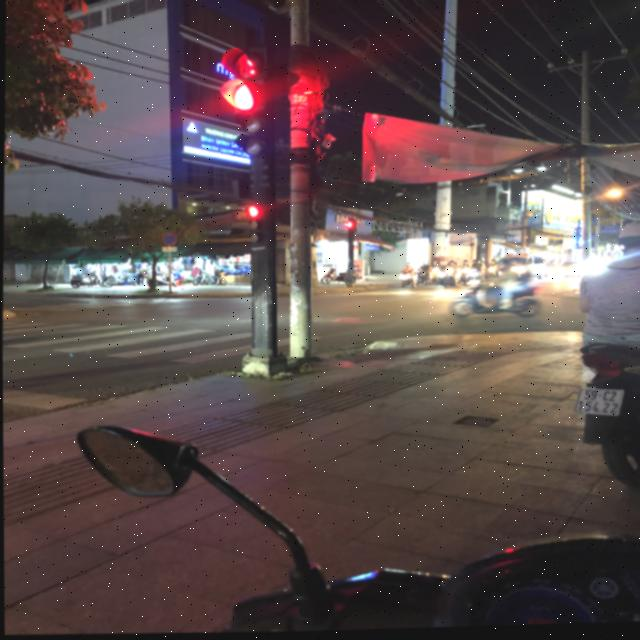Red: (215, 77, 272, 164), (245, 199, 271, 251)
